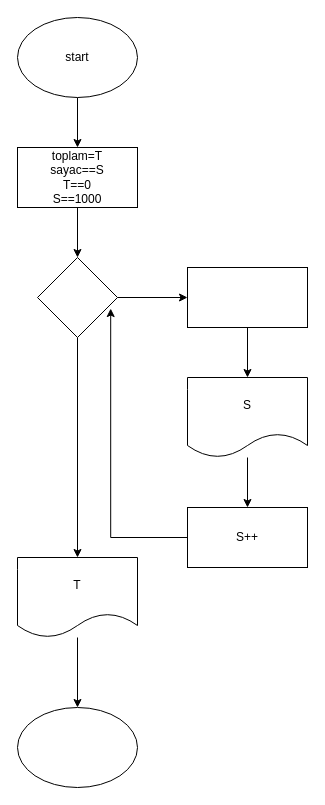
This 325x805 diagram has some shape labels left out. The box of each missing label's shape, as (x1, y1, x2, y2) in pixels:
S<2001: (36, 256, 118, 338)
T=T+S: (186, 266, 308, 328)
